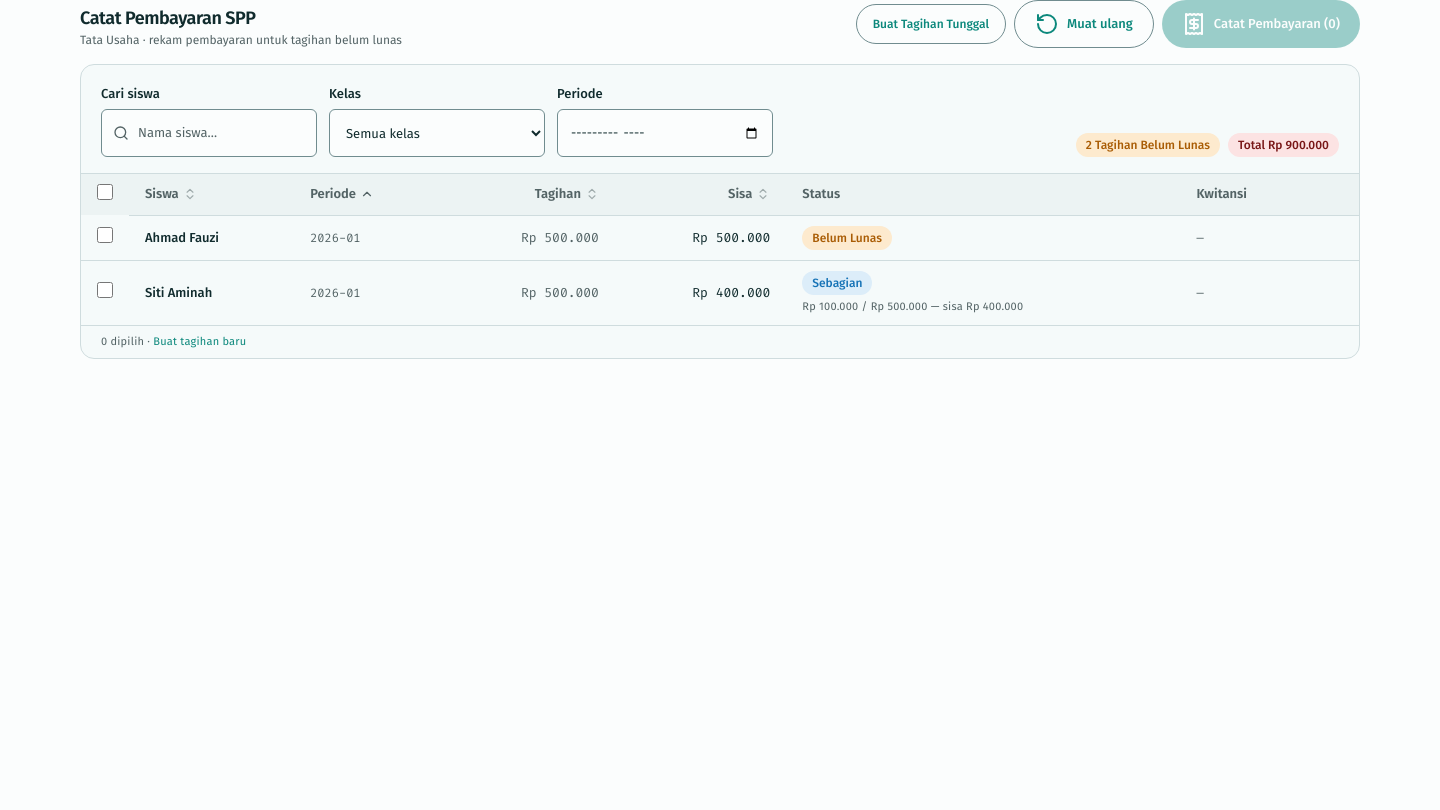
SppPaymentsPage › records a payment and shows the server receipt number
Expected: the text "Ahmad Fauzi" is shown, 129,215 -> 294,260
Click the checkbox named "Pilih tagihan Ahmad Fauzi". click: [105, 235]
box: 97,227 -> 113,243
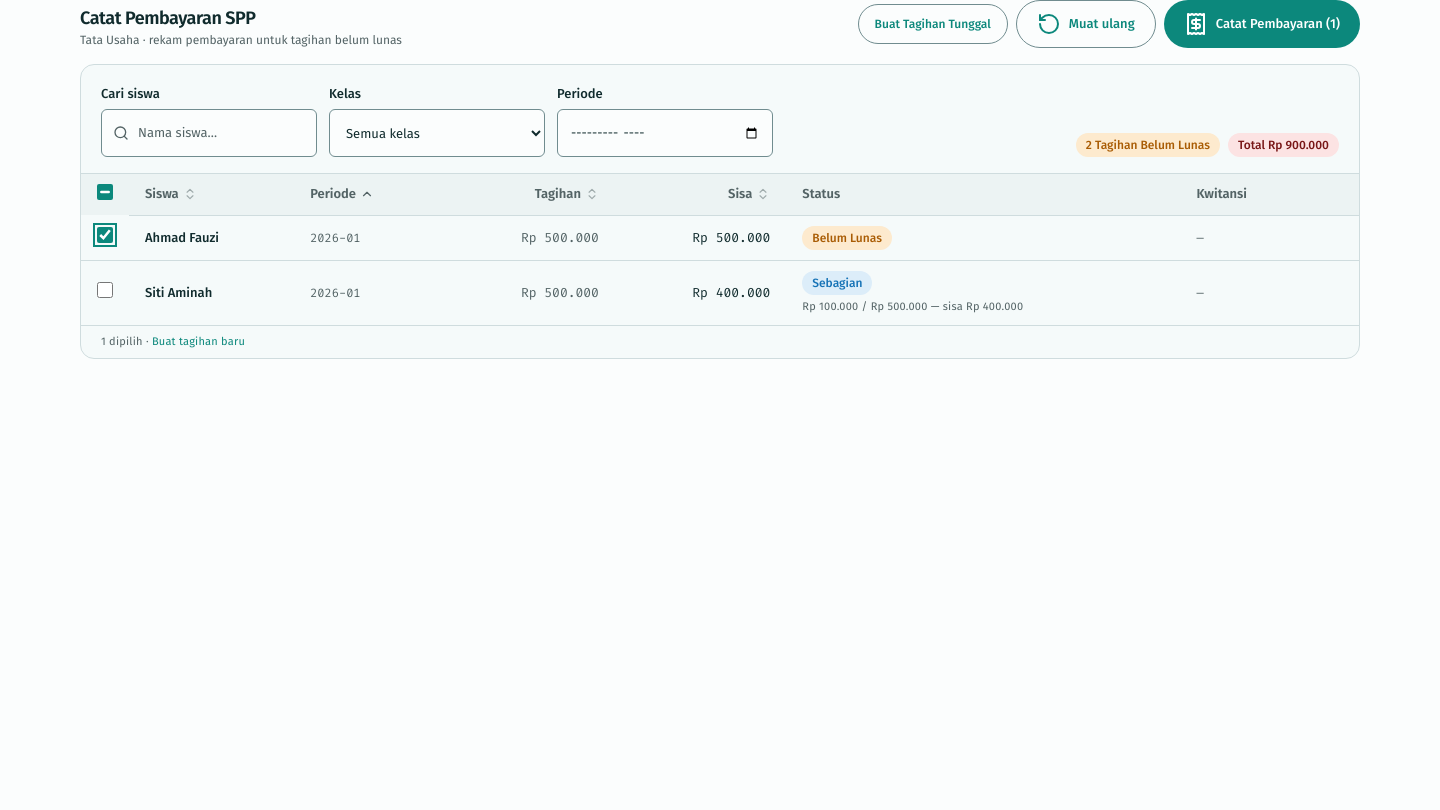
Click the button "Catat Pembayaran (1)". click: [1262, 24]
box: 1164,0 -> 1360,48
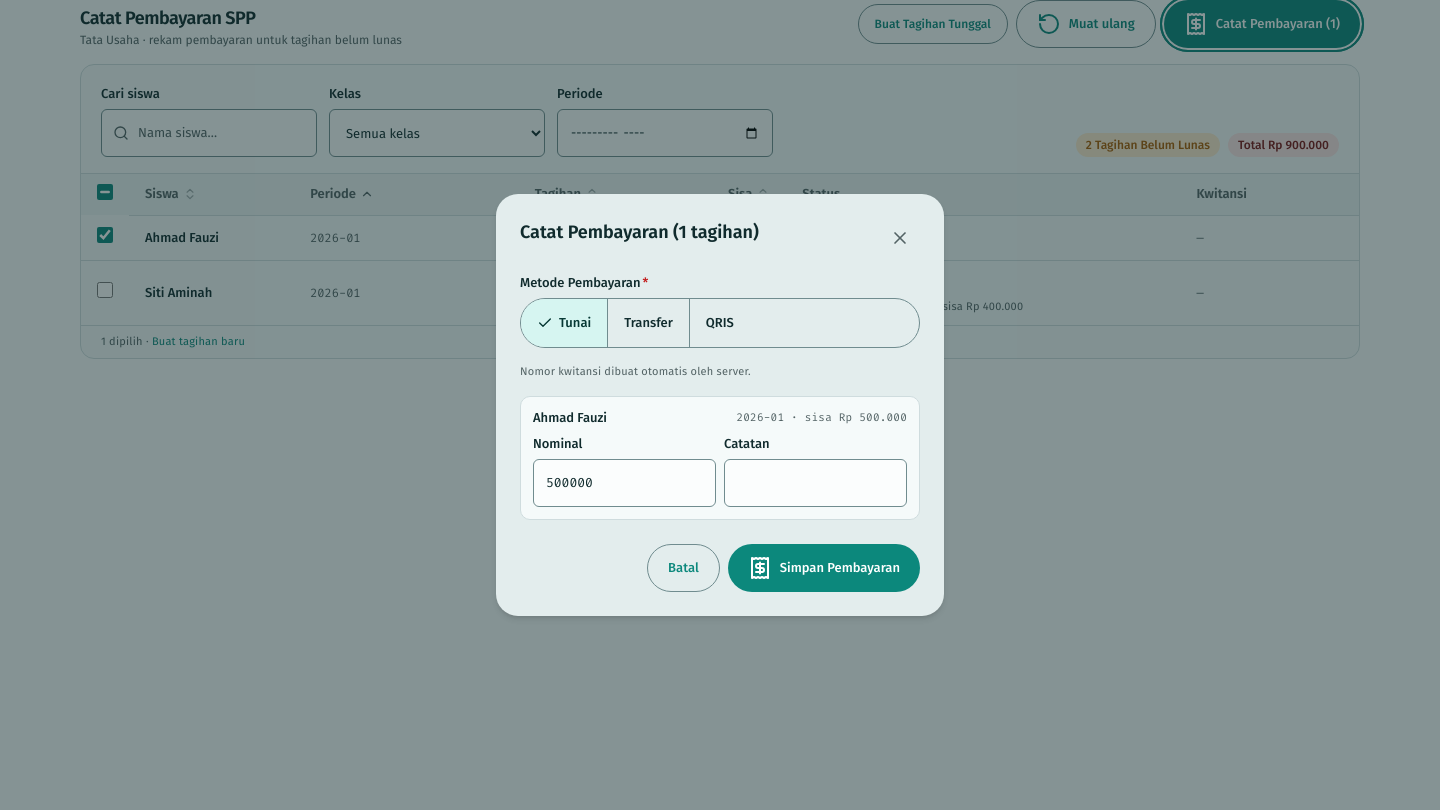
Click the button "Simpan Pembayaran". click: [824, 568]
box: 728,544 -> 920,592
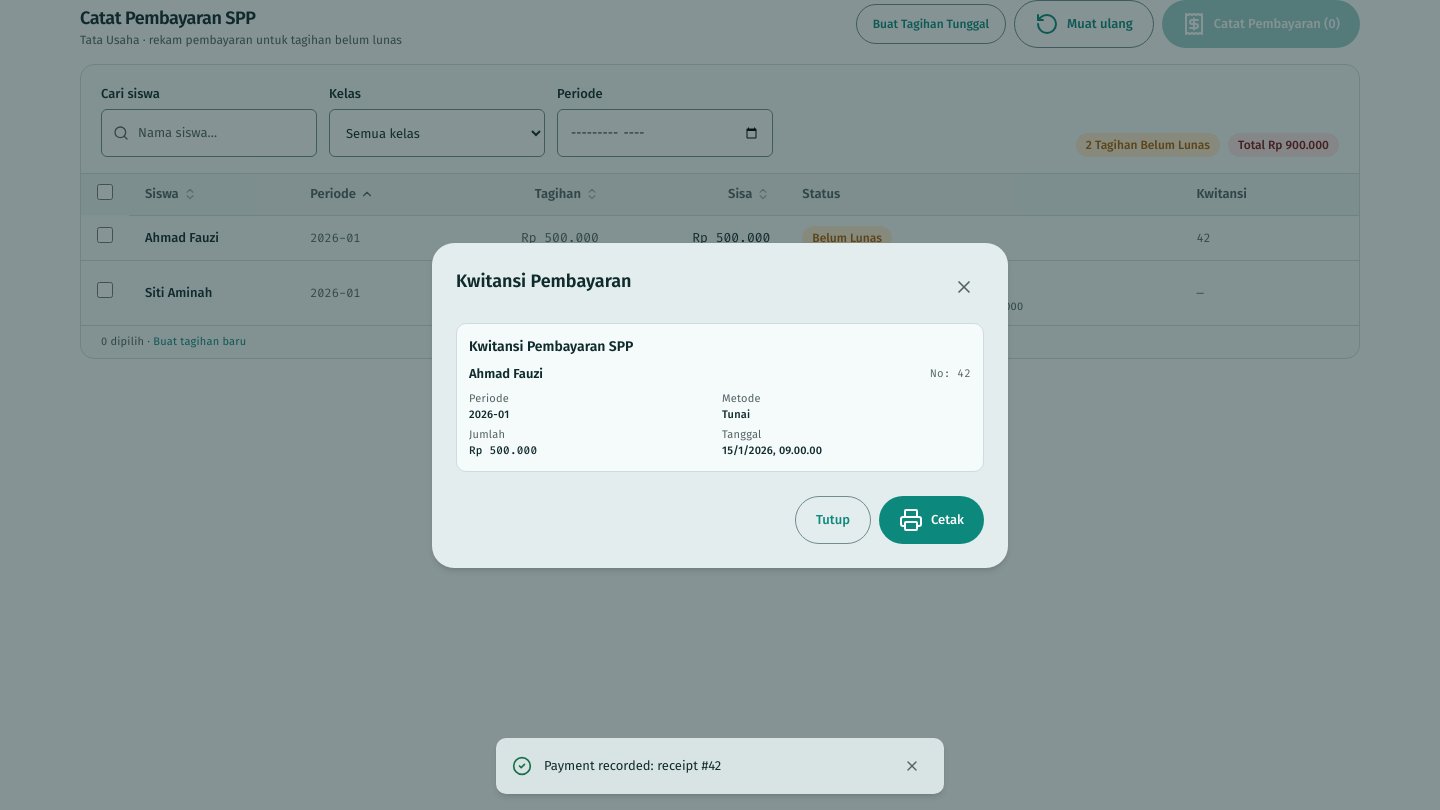
Now the text "Payment recorded: receipt #42" is shown, box 544,758 -> 721,773
